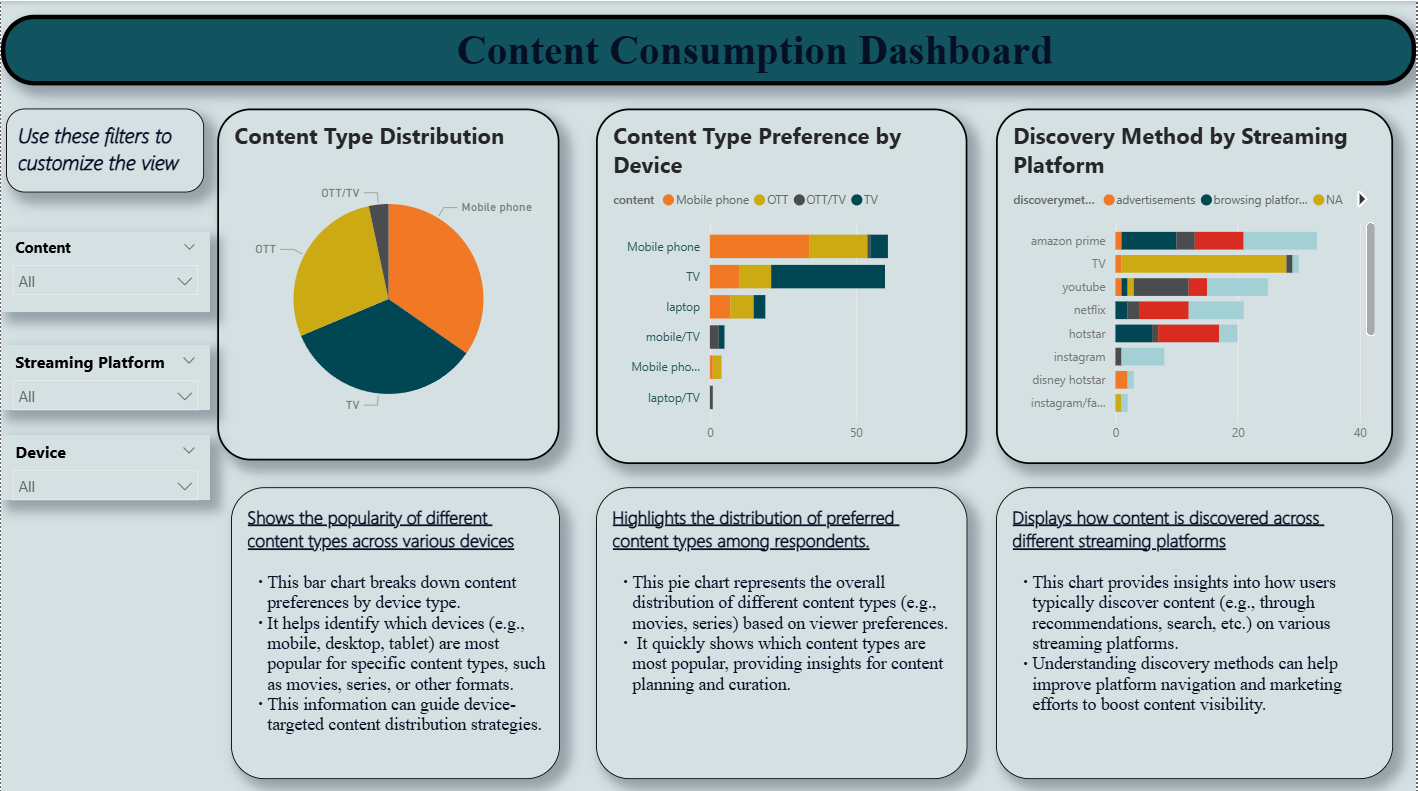

The dashboard page shown, as its layout file describes it:
{"tool":"powerbi","page":{"name":"Content Consumption","canvas":[1280,720],"ordinal":0},"visuals":[{"type":"barChart","title":"Content Type Preference by Device","fields":{"Series":["public contentpreferences.content"],"Category":["public contentpreferences.device"],"Y":["CountNonNull(public contentpreferences.id)"]},"box":[537.9,97.3,336.2,321.8],"z":0},{"type":"barChart","title":"Discovery Method by Streaming Platform","fields":{"Category":["public contentpreferences.streamingplatform"],"Series":["public contentpreferences.discoverymethod"],"Y":["CountNonNull(public contentpreferences.id)"]},"box":[900.6,97.3,359,321.8],"z":1000},{"type":"pieChart","title":"Content Type Distribution","fields":{"Category":["public contentpreferences.content"],"Y":["CountNonNull(public contentpreferences.id)"]},"box":[195.7,97.3,309.8,318.2],"z":2000},{"type":"slicer","fields":{"Values":["public contentpreferences.content"]},"box":[0,208.9,188.5,72],"z":3000},{"type":"slicer","fields":{"Values":["public contentpreferences.device"]},"box":[0,392.6,188.5,58.8],"z":4000},{"type":"slicer","fields":{"Values":["public contentpreferences.streamingplatform"]},"box":[0,311,188.5,58.8],"z":5000},{"type":"textbox","box":[0,12,1280,63.6],"z":6000},{"type":"textbox","box":[207.7,439.5,297.8,264.2],"z":7000},{"type":"textbox","box":[537.9,439.5,336.2,264.2],"z":8000},{"type":"textbox","box":[900.6,439.5,359,264.2],"z":9000},{"type":"textbox","box":[4.8,97.3,178.9,75.6],"z":10000}]}

Visuals, with their boxes in screenshot pixels (x1, y1, x2, y2), scaled from the page's 1280x720 canvas onto the 1418x791 screenshot:
"Content Type Preference by Device" barChart: [x1=596, y1=107, x2=968, y2=460]
"Discovery Method by Streaming Platform" barChart: [x1=998, y1=107, x2=1395, y2=460]
"Content Type Distribution" pieChart: [x1=217, y1=107, x2=560, y2=456]
slicer - public contentpreferences.content: [x1=0, y1=229, x2=209, y2=309]
slicer - public contentpreferences.device: [x1=0, y1=431, x2=209, y2=496]
slicer - public contentpreferences.streamingplatform: [x1=0, y1=342, x2=209, y2=406]
textbox: [x1=0, y1=13, x2=1417, y2=83]
textbox: [x1=230, y1=483, x2=560, y2=773]
textbox: [x1=596, y1=483, x2=968, y2=773]
textbox: [x1=998, y1=483, x2=1395, y2=773]
textbox: [x1=5, y1=107, x2=204, y2=190]
